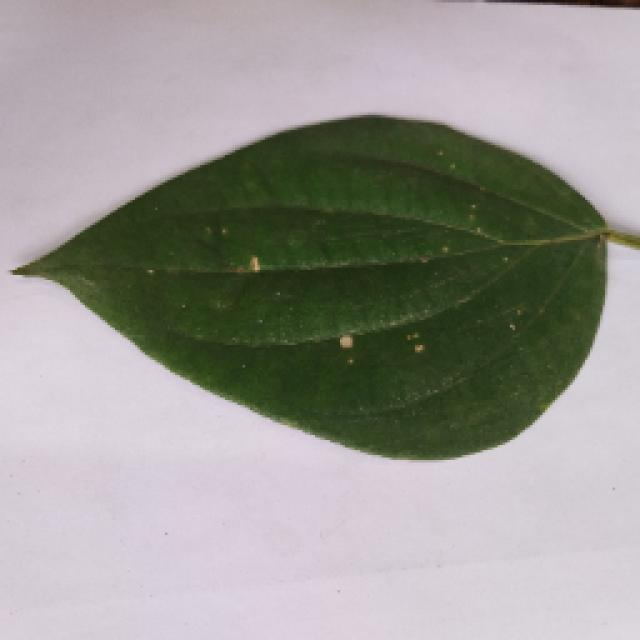pollu-disease: (8, 118, 620, 458)
